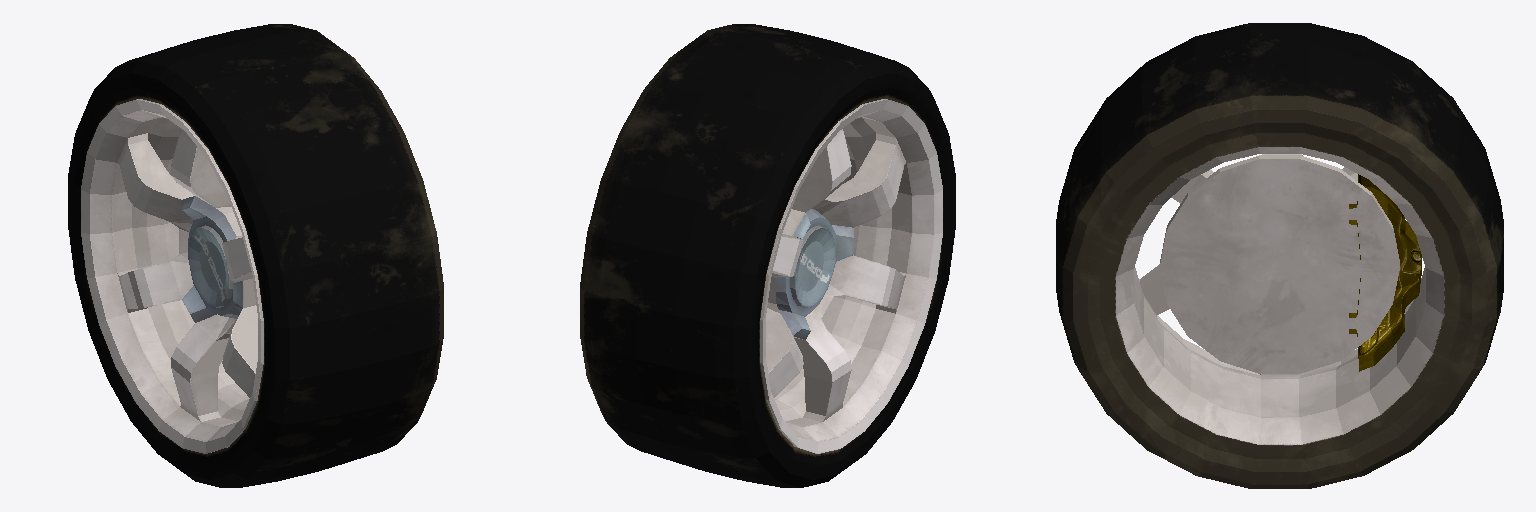
3 views of the same model, side by side, from view 1: azimuth 30°, elevation 25°; view 2: azimuth 150°, elevation 25°; view 3: azimuth 270°, elevation 25° (orthographic).
Parts seen in each view (by area): view 1: Wheel_FR; view 2: Wheel_FR; view 3: Wheel_FR.
Boxes of the visible parts, x1=… form: Wheel_FR: x1=68, y1=24, x2=443, y2=487; Wheel_FR: x1=580, y1=24, x2=955, y2=487; Wheel_FR: x1=1056, y1=23, x2=1503, y2=488.
Bounding box in the file's own units: 6.99 × 15.83 × 15.83.
Materials: 2 (2 with a texture image).